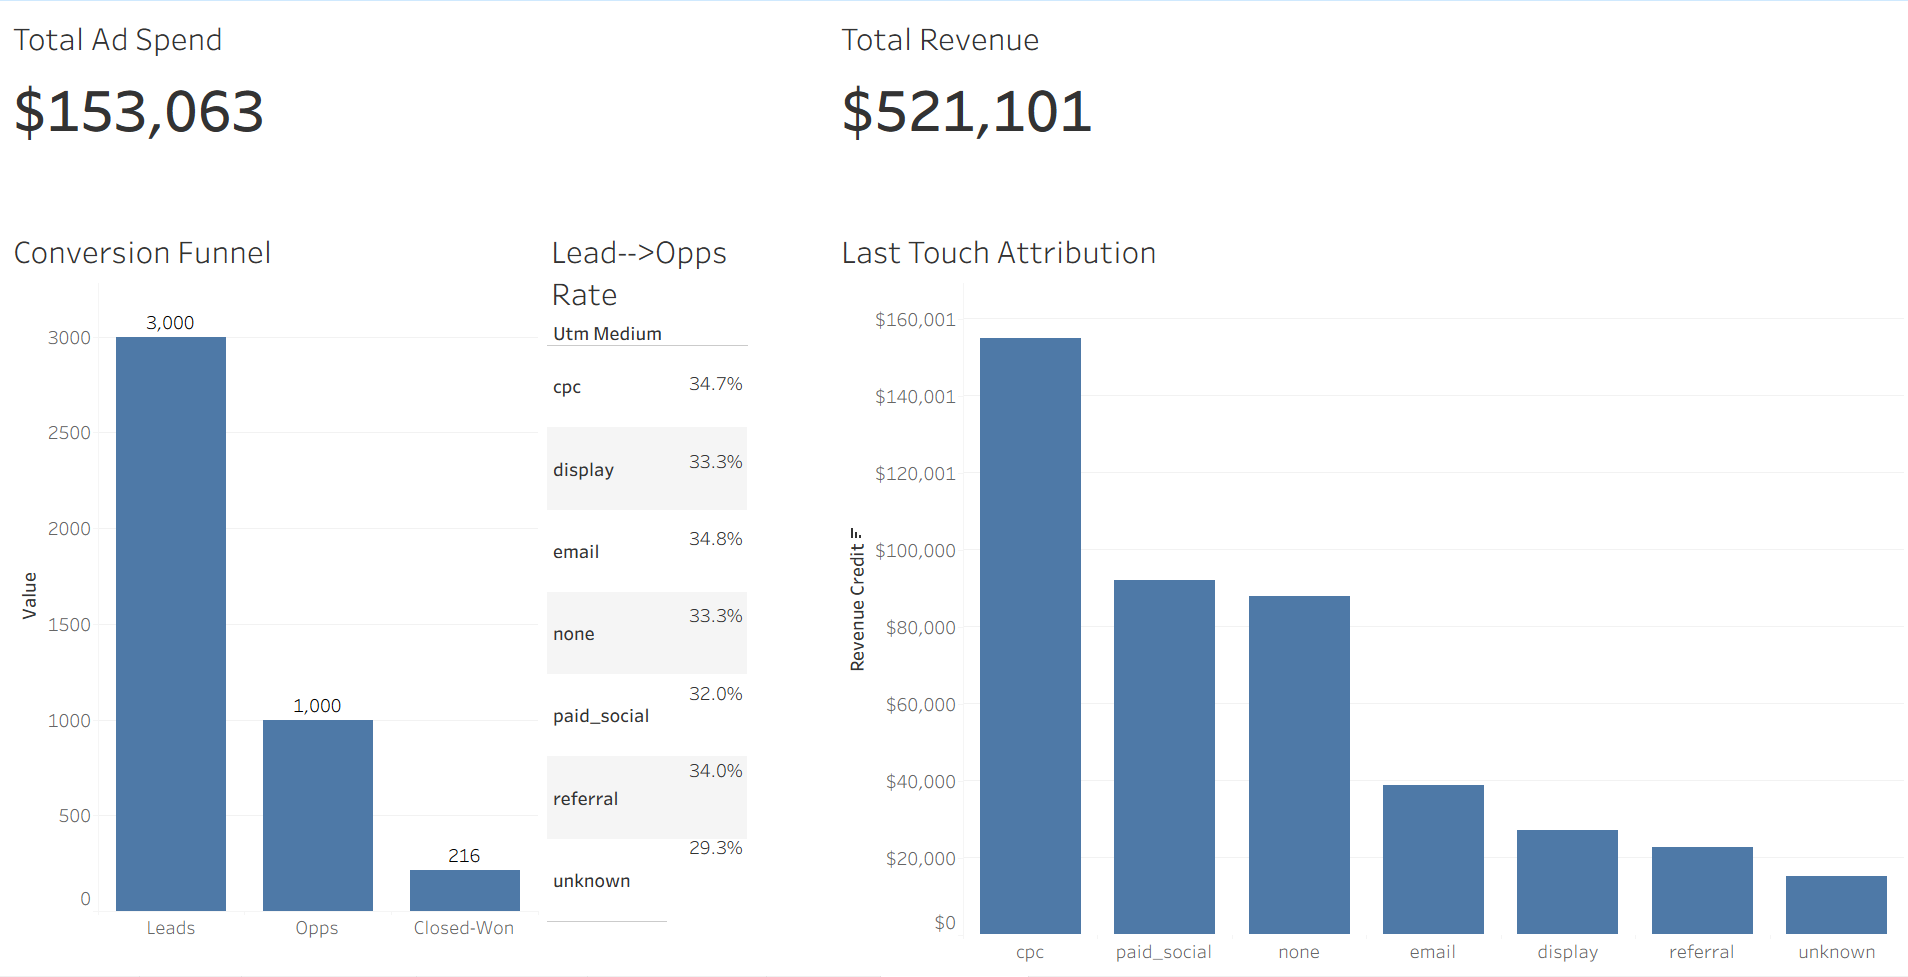

The page's visual inventory and layout, read from the dashboard file:
{"tool":"tableau","page":{"name":"Dashboard 1","canvas":[1000,1000],"units":"permille","ordinal":0},"visuals":[{"type":"worksheet","title":"Ad Spend","mark":"Automatic","box":[5,10.6,430.8,217.7]},{"type":"worksheet","title":"Total Revenue","mark":"Automatic","box":[435.8,10.6,559.2,217.7]},{"type":"worksheet","title":"Conversion Funnel","mark":"Bar","box":[5,228.2,274.2,761.2]},{"type":"worksheet","title":"Lead-->Opps Rate","mark":"Automatic","rows":["utm_medium"],"box":[279.2,228.2,156.9,761.2]},{"type":"worksheet","title":"Attribution","mark":"Automatic","rows":["revenue_credit"],"cols":["utm_medium"],"box":[436.1,228.2,559,761.2]}]}

Visuals, with their boxes on the dashboard's canvas, which has no fixed pixel size, in thousandths of its width and height (x1, y1, x2, y2). These are canvas units, not pixel positions in the 1908x977 screenshot, which may show the page scaled, cropped or inside an application window:
"Ad Spend" worksheet: [5, 11, 436, 228]
"Total Revenue" worksheet: [436, 11, 995, 228]
"Conversion Funnel" worksheet (Bar marks): [5, 228, 279, 989]
"Lead-->Opps Rate" worksheet: [279, 228, 436, 989]
"Attribution" worksheet: [436, 228, 995, 989]
